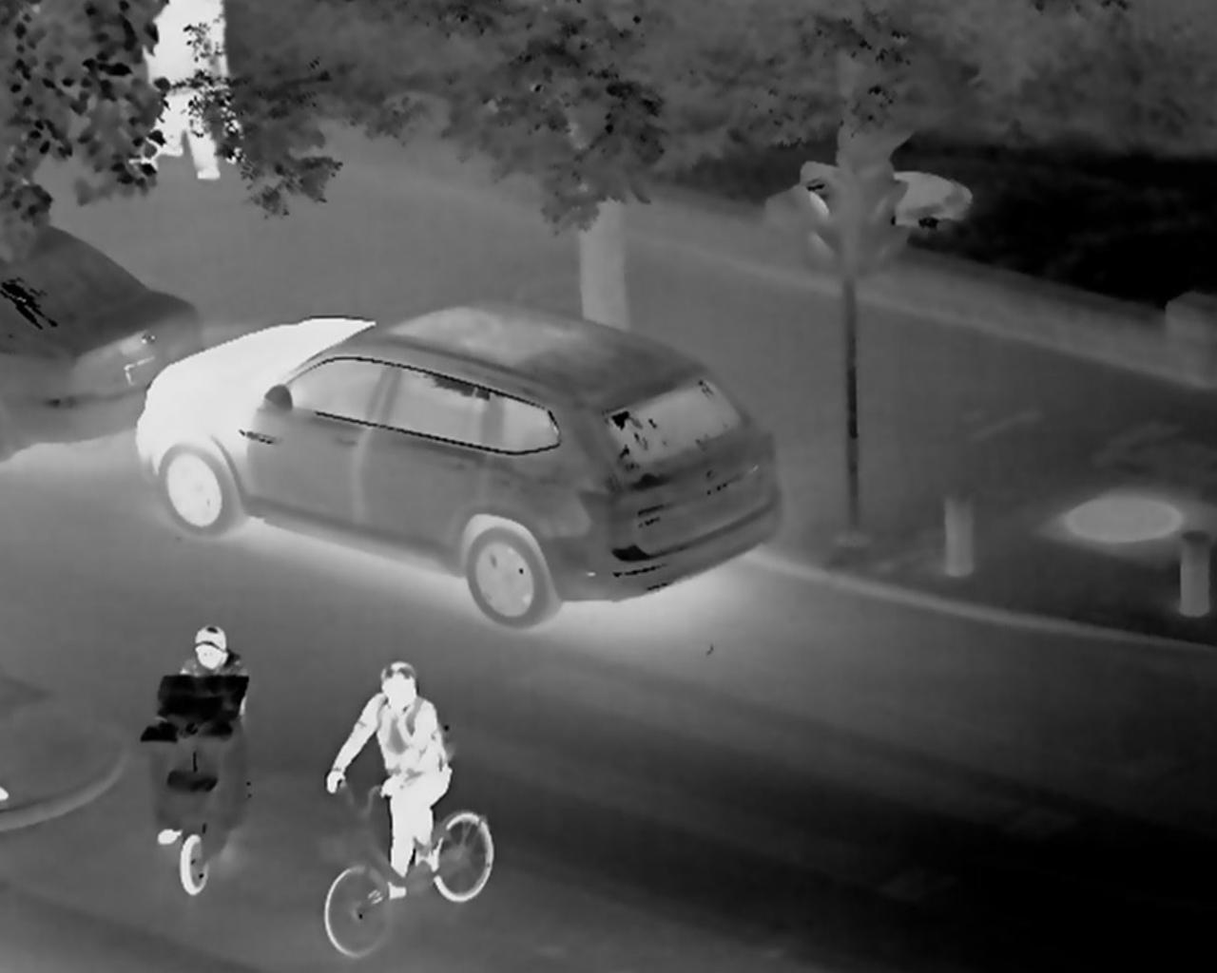person: (346, 644, 479, 926), (162, 7, 245, 171), (183, 624, 243, 706)
